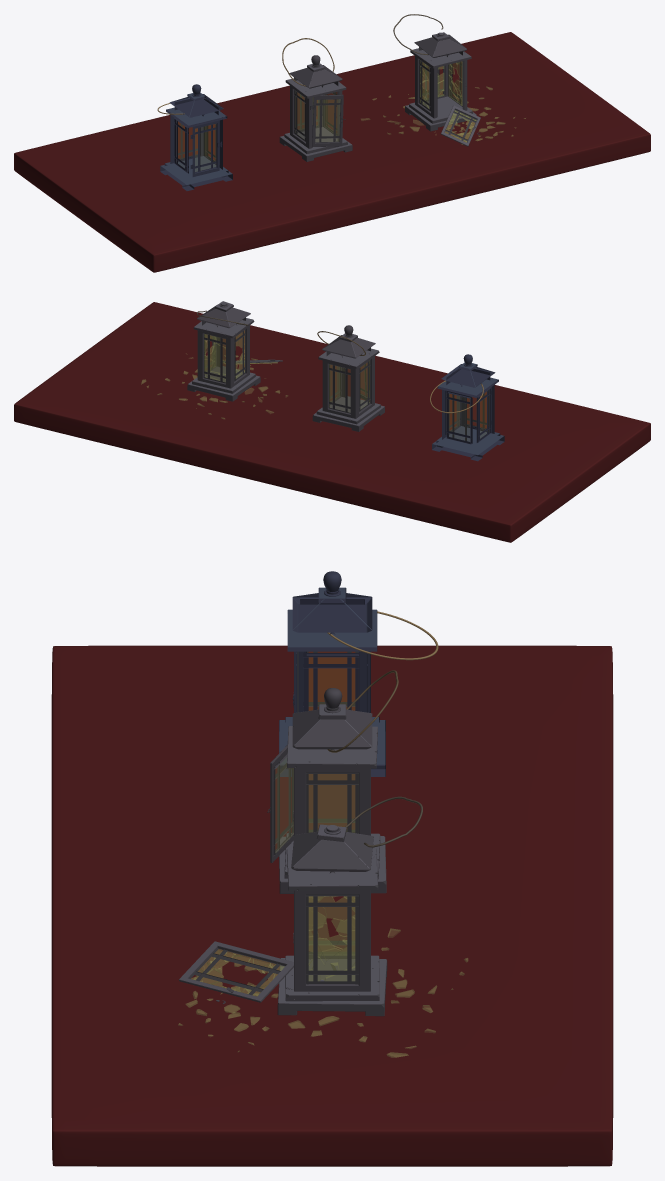
Rendered from broken_lantern.glb.
3 renders of one model, top to bottom at view 1: azimuth 30°, elevation 25°; view 2: azimuth 150°, elevation 25°; view 3: azimuth 270°, elevation 25°, orthographic. The views are drawn at different scales.
Visible parts, largest first — view 1: Plane.013_53, Cube.018_93, Cube.024_101, Cube.058_1, Cube.002_55, Cube.006_59, Cube.061_4, Cube.021_96, Cube.057_0, Cube.005_58, Cube.017_92, Cube.003_56 (+7 smaller); view 2: Plane.013_53, Cube.018_93, Cube.058_1, Cube.002_55, Cube.006_59, Cube.021_96, Cube.061_4, Cube.001_54, Cube.017_92, Cube.005_58, Cube.057_0, Cube.003_56 (+4 smaller); view 3: Plane.013_53, Cube.018_93, Cube.058_1, Cube.061_4, Cube.021_96, Cube.002_55, Cube.005_58, Cube.057_0, Cube.024_101, Cube.059_2, Cube.003_56, Cube.019_94 (+2 smaller).
Part boxes in pixels (x1,y1,x2,y2): Plane.013_53: [14, 32, 650, 272]; Cube.018_93: [290, 86, 342, 148]; Cube.024_101: [312, 94, 343, 146]; Cube.058_1: [415, 56, 467, 118]; Cube.002_55: [170, 115, 222, 172]; Cube.006_59: [160, 165, 232, 190]; Cube.061_4: [414, 34, 466, 57]; Cube.021_96: [289, 65, 342, 88]; Cube.057_0: [409, 96, 472, 123]; Cube.005_58: [169, 94, 223, 117]; Cube.017_92: [284, 127, 347, 153]; Cube.003_56: [166, 107, 227, 127]; Plane.013_53: [14, 302, 650, 542]; Cube.018_93: [322, 356, 374, 418]; Cube.058_1: [197, 325, 249, 388]; Cube.002_55: [442, 385, 494, 443]; Cube.006_59: [432, 435, 504, 461]; Cube.021_96: [322, 335, 375, 358]; Cube.061_4: [197, 305, 250, 328]; Cube.001_54: [436, 426, 500, 450]; Cube.017_92: [316, 396, 380, 424]; Cube.005_58: [441, 364, 495, 387]; Cube.057_0: [192, 366, 255, 393]; Cube.003_56: [437, 377, 498, 397]; Plane.013_53: [51, 645, 613, 1166]; Cube.018_93: [294, 768, 370, 835]; Cube.058_1: [294, 890, 370, 991]; Cube.061_4: [291, 831, 373, 871]; Cube.021_96: [292, 709, 372, 749]; Cube.002_55: [294, 651, 370, 712]; Cube.005_58: [292, 593, 372, 632]; Cube.057_0: [285, 955, 379, 1001]; Cube.024_101: [270, 745, 293, 862]; Cube.059_2: [286, 848, 378, 890]; Cube.003_56: [287, 609, 377, 651]; Cube.019_94: [287, 726, 377, 768].
Bounding box in the file's own units: 23.73 × 5.22 × 11.59.
